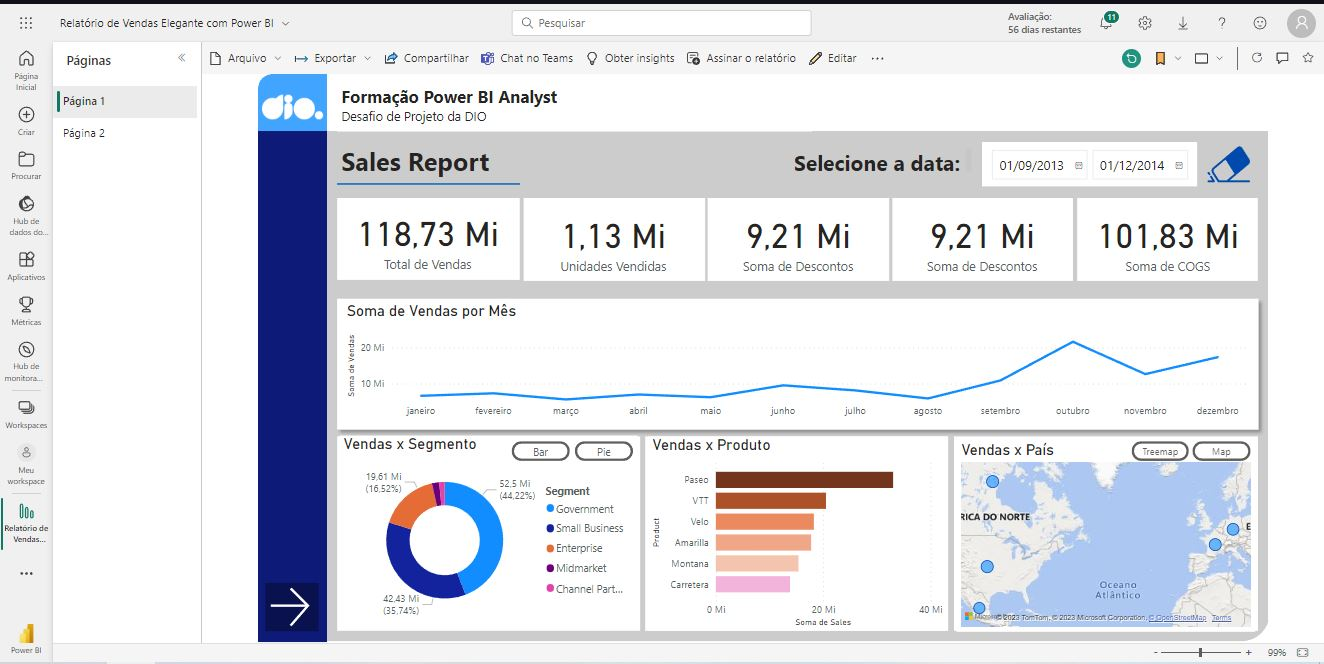

The dashboard page shown, as its layout file describes it:
{"tool":"powerbi","page":{"name":"Página 1","canvas":[1280,720],"ordinal":0},"visuals":[{"type":"shape","box":[0,0,87.5,719.6],"z":0,"group":"g6"},{"type":"group","id":"g1","title":"Fundo","box":[0,0,1280.7,719.3],"z":0},{"type":"shape","box":[0,0,1280.7,719.3],"z":0,"group":"g1"},{"type":"shape","box":[86.8,0,1192.8,72.5],"z":0,"group":"g8"},{"type":"slicer","fields":{"Values":["financials.Date"]},"box":[917.5,85.9,272.5,56.5],"z":0,"group":"g2"},{"type":"shape","box":[100.5,115,231,48],"z":0,"group":"g7"},{"type":"shape","box":[100,156.7,230.8,104.4],"z":0,"group":"g5"},{"type":"treemap","title":" Vendas x Pais","fields":{"Group":["financials.Country"],"Values":["Sum(financials. Sales)"]},"box":[884.8,466.1,376.9,240.3],"z":0,"group":"g3"},{"type":"donutChart","title":"Vendas x Segmento ","fields":{"Y":["Sum(financials. Sales)"],"Category":["financials.Segment"]},"box":[103.8,457.7,376.9,244.2],"z":500,"group":"g4"},{"type":"shape","box":[0,0,87,72.5],"z":1000,"group":"g6"},{"type":"textbox","box":[100,8.9,601.8,64.3],"z":1000,"group":"g8"},{"type":"textbox","box":[100.5,83,215.5,56],"z":1000,"group":"g7"},{"type":"textbox","box":[673.9,89.2,234.9,42.2],"z":1000,"group":"g2"},{"type":"shape","box":[335.7,157,229.6,104.7],"z":1000,"group":"g5"},{"type":"shape","box":[90.7,275.9,1185.2,183.3],"z":1000,"group":"g1"},{"type":"lineChart","fields":{"Y":["Sum(financials. Sales)"],"Category":["financials.Date.Variation.Hierarquia de datas.Mês"]},"box":[107.4,288.9,1150,155.6],"z":1000},{"type":"actionButton","title":"Botão - pie","box":[402,464.6,73.3,25],"z":1500,"group":"g4"},{"type":"actionButton","title":"Botão - map","box":[1184.2,465.2,73.4,24.7],"z":1500,"group":"g3"},{"type":"image","title":"Logo DIO","box":[0,16.1,87.5,50],"z":2000,"group":"g6"},{"type":"actionButton","box":[1191.7,80,72.5,62.3],"z":2000,"group":"g2"},{"type":"shape","box":[1037.6,157,229,104.7],"z":2000,"group":"g5"},{"type":"shape","box":[100,459.3,383.3,246.3],"z":2000,"group":"g1"},{"type":"clusteredBarChart","title":"Vendas x Produto","fields":{"Y":["Sum(financials. Sales)"],"Category":["financials.Product"]},"box":[494.4,459.3,377.8,246.3],"z":2000},{"type":"actionButton","title":"Botão - bar","box":[321.9,464.6,73.3,25],"z":2000,"group":"g4"},{"type":"actionButton","title":"Botão - treemap","box":[1106.3,465.2,72.8,24.7],"z":2000,"group":"g3"},{"type":"group","id":"g2","title":"Filtro por data","box":[673.9,79.7,590.3,69.1],"z":3000},{"type":"image","title":"Clean","box":[1198,79.7,63.8,69.1],"z":3000,"group":"g2"},{"type":"shape","box":[568.7,157,229.6,104.7],"z":3000,"group":"g5"},{"type":"shape","box":[881.5,459.3,385.2,246.3],"z":3000,"group":"g1"},{"type":"shape","box":[802.9,157,229,104.7],"z":4000,"group":"g5"},{"type":"shape","box":[490.7,459.3,383.3,246.3],"z":4000,"group":"g1"},{"type":"group","id":"g3","title":"Vendas x País","box":[884.8,465.2,377.8,241.1],"z":4000},{"type":"card","fields":{"Values":["Sum(financials.COGS)"]},"box":[1044.4,163,214.8,94.4],"z":5000,"group":"g5"},{"type":"group","id":"g4","title":"Vendas x Segmentos","box":[103.7,457.7,377.1,247.9],"z":5000},{"type":"group","id":"g5","title":"Cards","box":[100,156.7,1166.7,105],"z":6000},{"type":"card","fields":{"Values":["Sum(financials.Discounts)"]},"box":[809.3,163,214.8,94.4],"z":6000,"group":"g5"},{"type":"group","id":"g6","title":"Lateral Esquerda","box":[0,0,87.5,719.6],"z":7000},{"type":"card","fields":{"Values":["Sum(financials.Discounts)"]},"box":[575.9,163,214.8,94.4],"z":7000,"group":"g5"},{"type":"group","id":"g7","title":"Title report","box":[100.5,83,231,80],"z":8000},{"type":"card","fields":{"Values":["Sum(financials.Units Sold)"]},"box":[342.6,163,214.8,94.4],"z":8000,"group":"g5"},{"type":"group","id":"g8","title":"Top","box":[86.8,0,1192.8,73.2],"z":9000},{"type":"card","fields":{"Values":["Sum(financials. Sales)"]},"box":[107.4,161.1,214.8,94.4],"z":9000,"group":"g5"},{"type":"actionButton","title":"Botão - prox p","box":[9.2,644.6,67.7,61.5],"z":10000}]}

Visuals, with their boxes on the page's 1280x720 design canvas (x1, y1, x2, y2). These are canvas units, not pixel positions in the 1324x664 screenshot, which may show the page scaled, cropped or inside an application window:
shape: bbox=(0, 0, 88, 720)
"Fundo" group: bbox=(0, 0, 1281, 719)
shape: bbox=(0, 0, 1281, 719)
shape: bbox=(87, 0, 1280, 72)
slicer - financials.Date: bbox=(918, 86, 1190, 142)
shape: bbox=(100, 115, 332, 163)
shape: bbox=(100, 157, 331, 261)
" Vendas x Pais" treemap: bbox=(885, 466, 1262, 706)
"Vendas x Segmento " donutChart: bbox=(104, 458, 481, 702)
shape: bbox=(0, 0, 87, 72)
textbox: bbox=(100, 9, 702, 73)
textbox: bbox=(100, 83, 316, 139)
textbox: bbox=(674, 89, 909, 131)
shape: bbox=(336, 157, 565, 262)
shape: bbox=(91, 276, 1276, 459)
lineChart - Sum(financials. Sales) x financials.Date.Variation.Hierarquia de datas.Mês: bbox=(107, 289, 1257, 444)
"Botão - pie" actionButton: bbox=(402, 465, 475, 490)
"Botão - map" actionButton: bbox=(1184, 465, 1258, 490)
"Logo DIO" image: bbox=(0, 16, 88, 66)
actionButton: bbox=(1192, 80, 1264, 142)
shape: bbox=(1038, 157, 1267, 262)
shape: bbox=(100, 459, 483, 706)
"Vendas x Produto" clusteredBarChart: bbox=(494, 459, 872, 706)
"Botão - bar" actionButton: bbox=(322, 465, 395, 490)
"Botão - treemap" actionButton: bbox=(1106, 465, 1179, 490)
"Filtro por data" group: bbox=(674, 80, 1264, 149)
"Clean" image: bbox=(1198, 80, 1262, 149)
shape: bbox=(569, 157, 798, 262)
shape: bbox=(882, 459, 1267, 706)
shape: bbox=(803, 157, 1032, 262)
shape: bbox=(491, 459, 874, 706)
"Vendas x País" group: bbox=(885, 465, 1263, 706)
card - Sum(financials.COGS): bbox=(1044, 163, 1259, 257)
"Vendas x Segmentos" group: bbox=(104, 458, 481, 706)
"Cards" group: bbox=(100, 157, 1267, 262)
card - Sum(financials.Discounts): bbox=(809, 163, 1024, 257)
"Lateral Esquerda" group: bbox=(0, 0, 88, 720)
card - Sum(financials.Discounts): bbox=(576, 163, 791, 257)
"Title report" group: bbox=(100, 83, 332, 163)
card - Sum(financials.Units Sold): bbox=(343, 163, 557, 257)
"Top" group: bbox=(87, 0, 1280, 73)
card - Sum(financials. Sales): bbox=(107, 161, 322, 256)
"Botão - prox p" actionButton: bbox=(9, 645, 77, 706)
